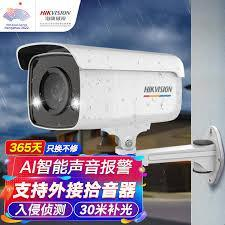tutu: (15, 42, 185, 131)
